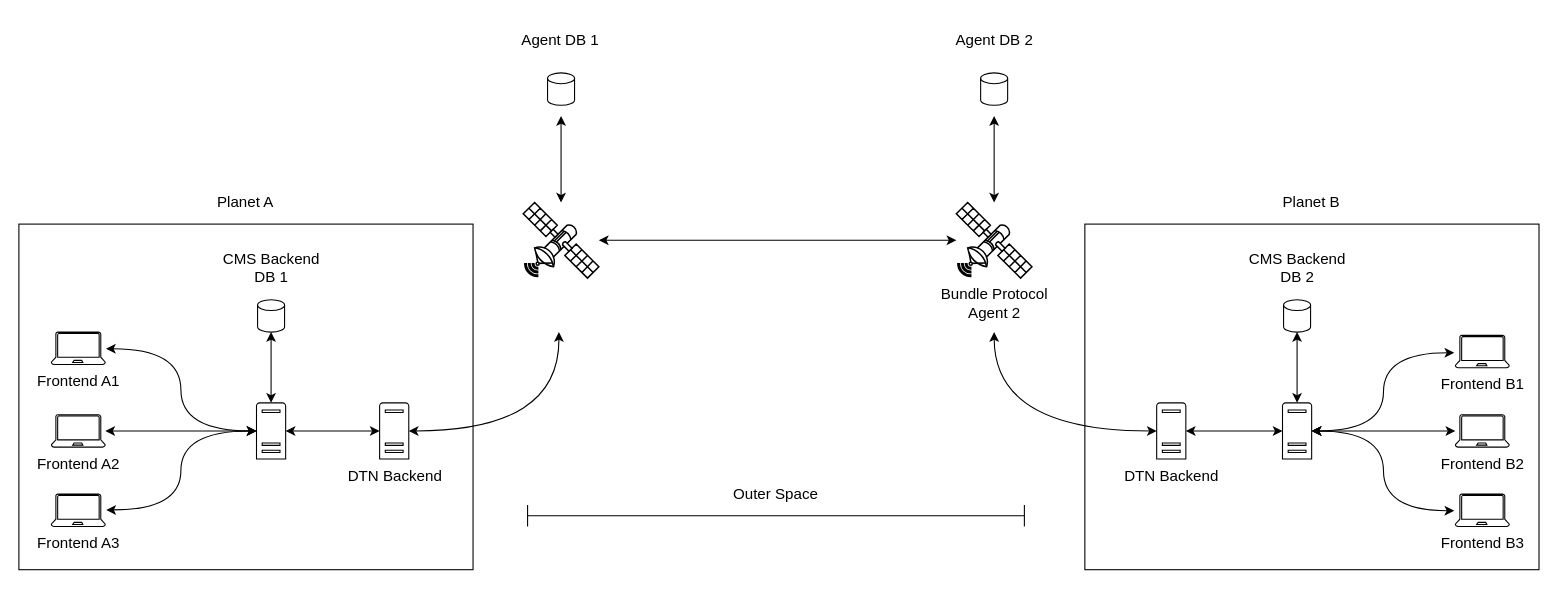
Image size: 1558x589. Some labels were removed from this diagram. Each missing label, with the centre of its shape:
"Bundle Protocol Agent 1" goes at pixel 560 240.
"CMS Backend 1" goes at pixel 270 430.
"CMS Backend 2" goes at pixel 1296 430.
